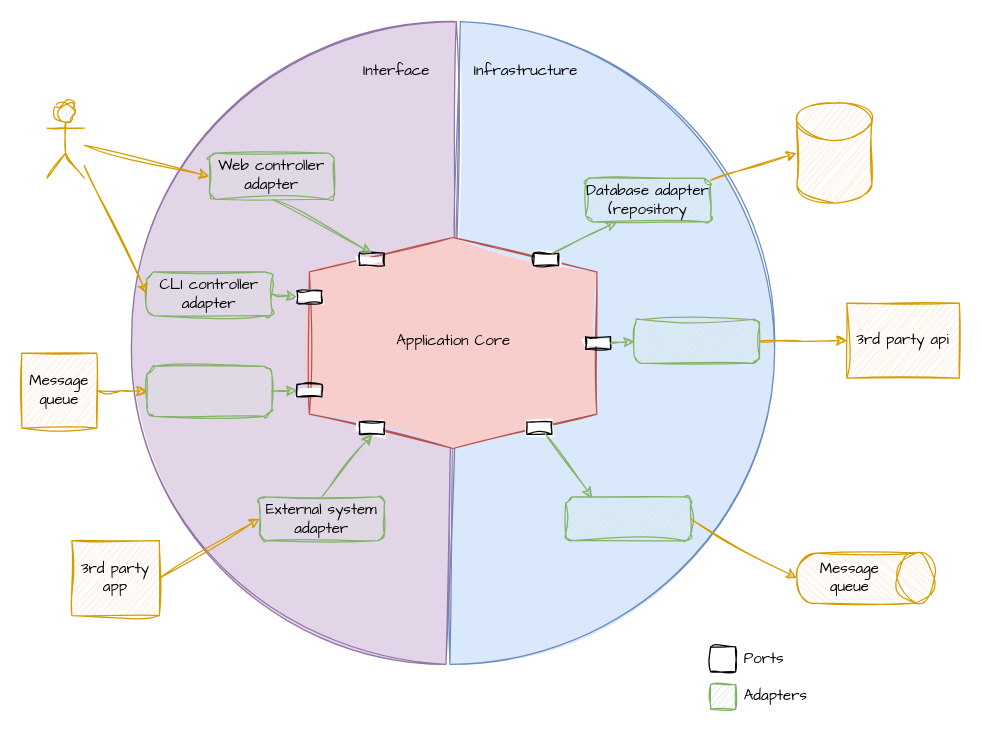
Image size: 981x738. Some labels were removed from this diagram. Here are the shapes that lost their labels. From the top down, the centre of each, then its label:
the point at 834,152: DB
the point at 696,340: Mail adapter
the point at 209,390: Events adapter
the point at 627,518: Message queue adapter
